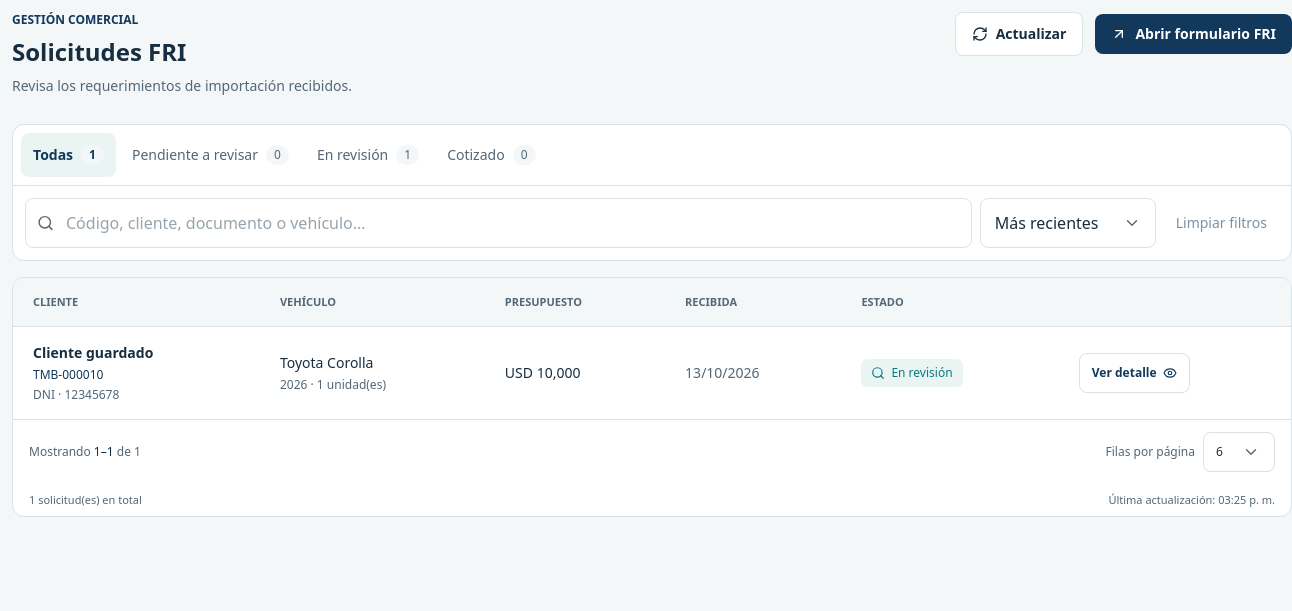
Test: Bandeja de solicitudes › conserva la última carga si falla la actualización
Expected: the table is shown, [13,278,1291,419]
Click the button "Actualizar" at (1019, 34), box [955,12,1084,56]
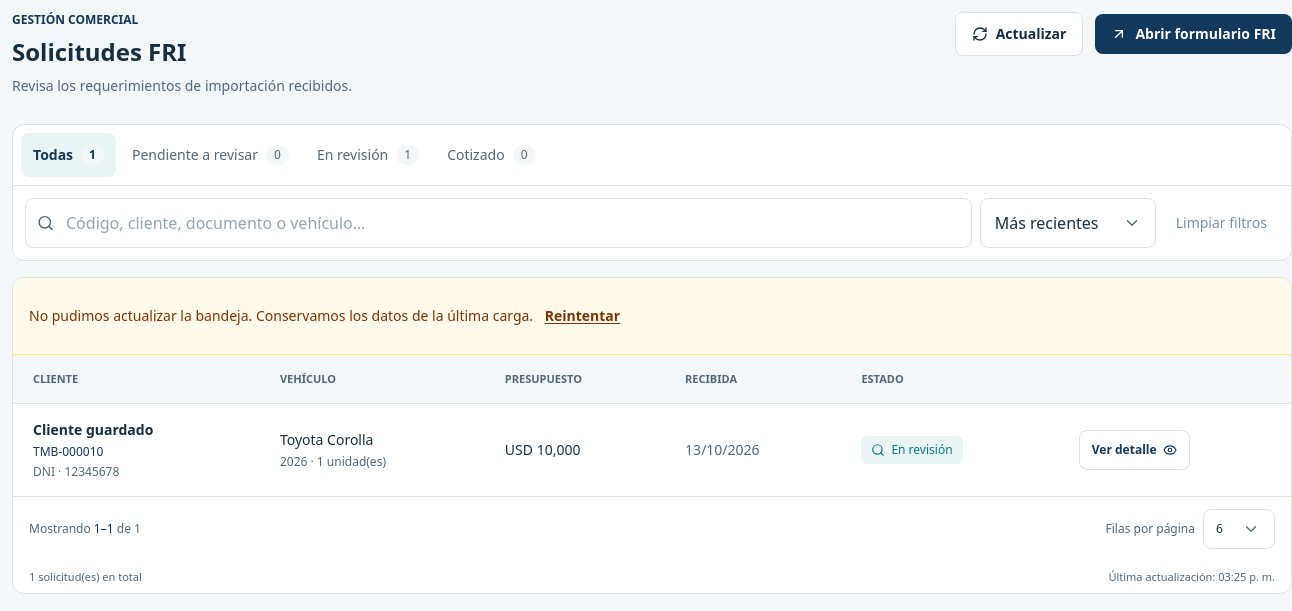
Expected: the link "Cliente guardado" is shown, [33,420,153,439]
Expected: the message is shown, [13,278,1291,355]
Expected: the text "Conservamos los datos de la última carga" is shown, [29,306,533,325]
